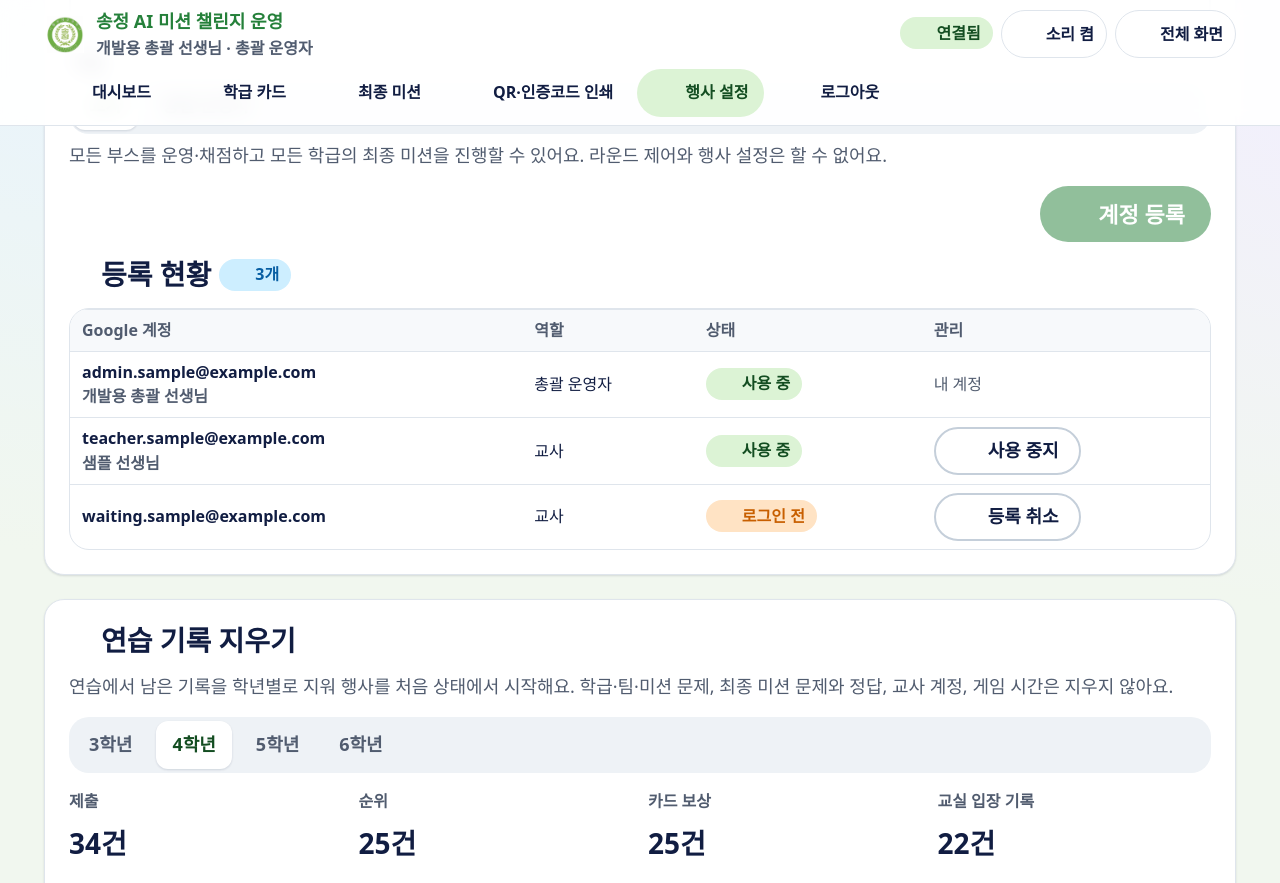
it: 교사 계정 등록 › 다른 교사 계정은 사용 중지했다가 다시 쓰게 할 수 있고, 내 계정은 바꿀 수 없다
(page scrolled)
Expected: the table is shown, [70,309,1210,549]
Expected: the text "내 계정" is shown, [934,373,982,395]
Click the button with aria-label "teacher.sample@example.com 사용 중지": (1007, 451) [934,427,1081,475]
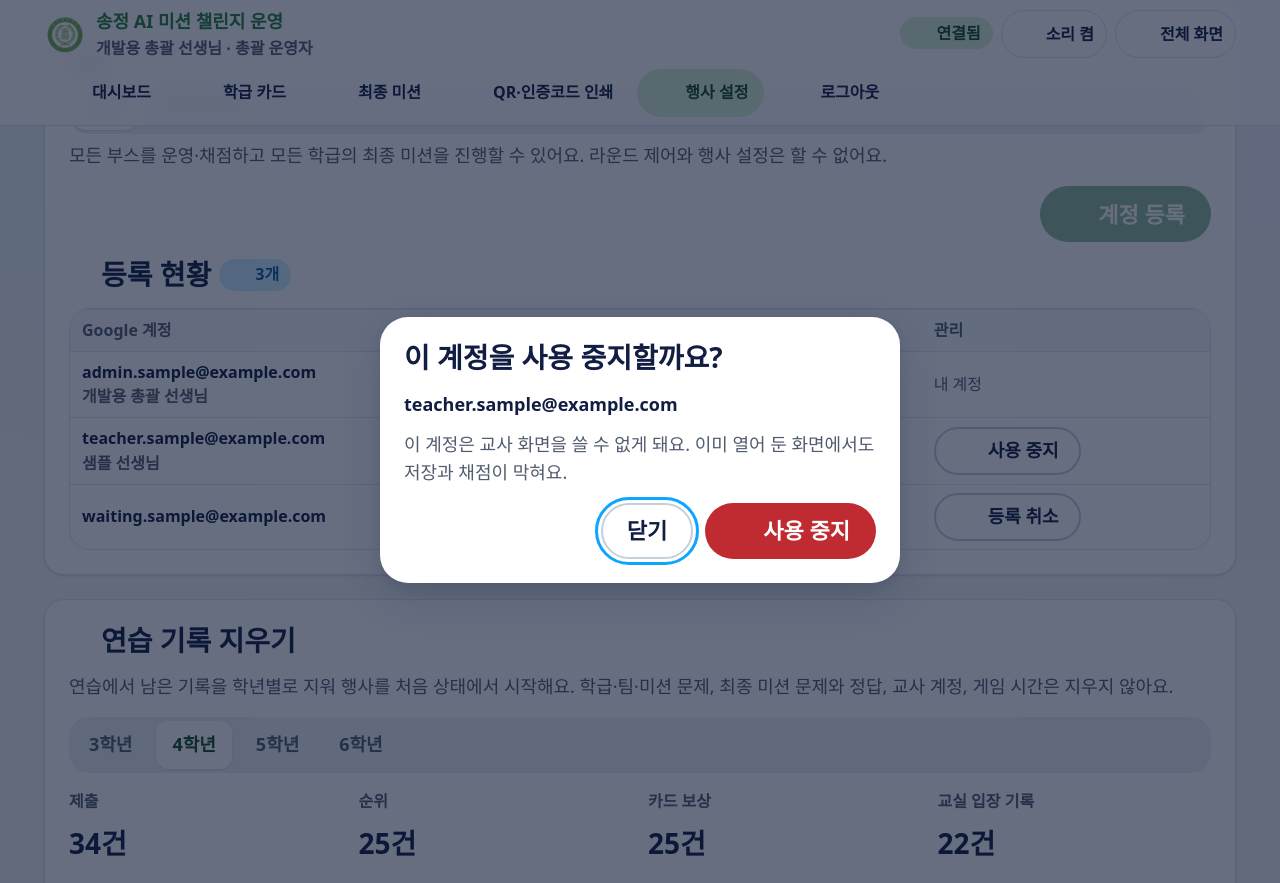
Click the button "사용 중지": (791, 531) [705,503,876,559]
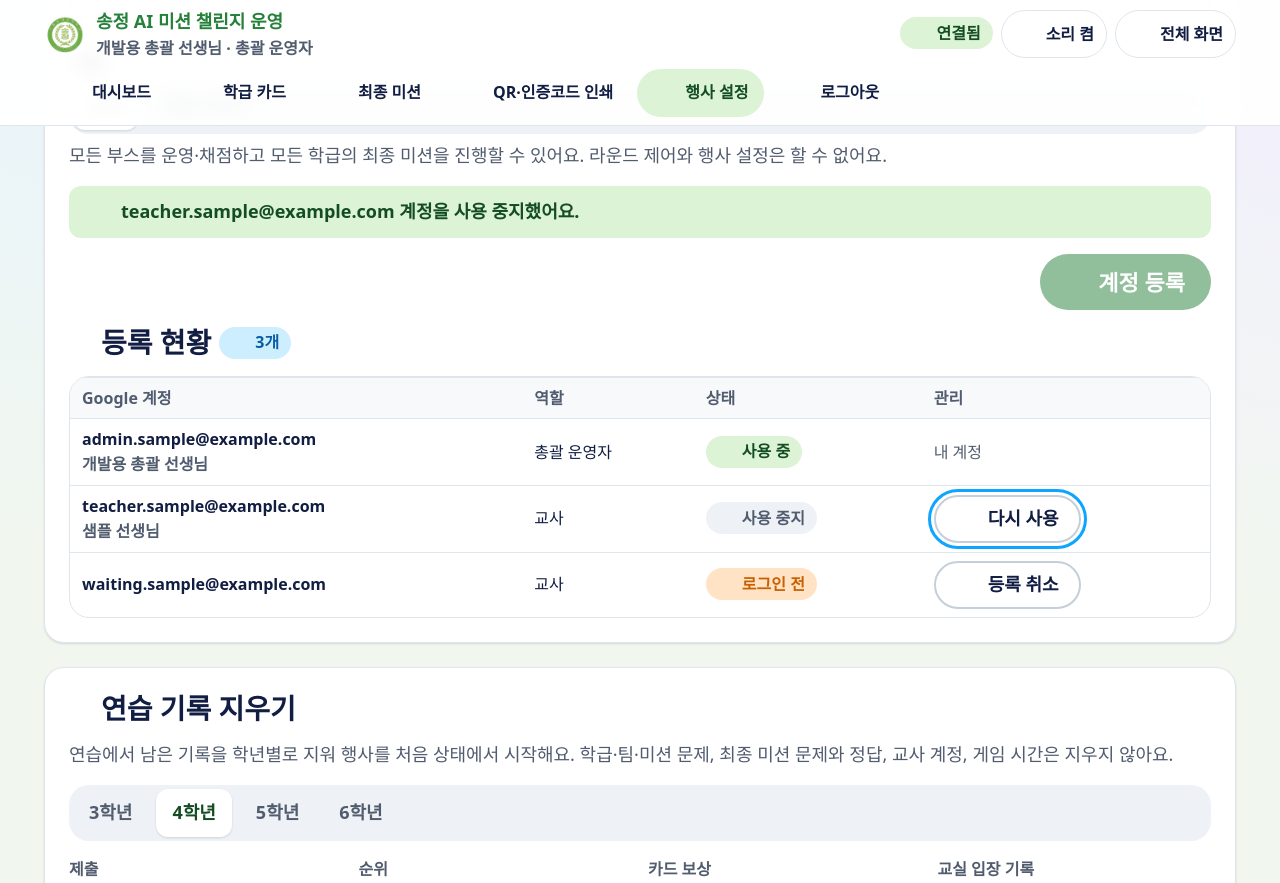
Result: the button "다시 사용" is shown
Click the button "다시 사용": (1007, 519) [934,495,1081,543]
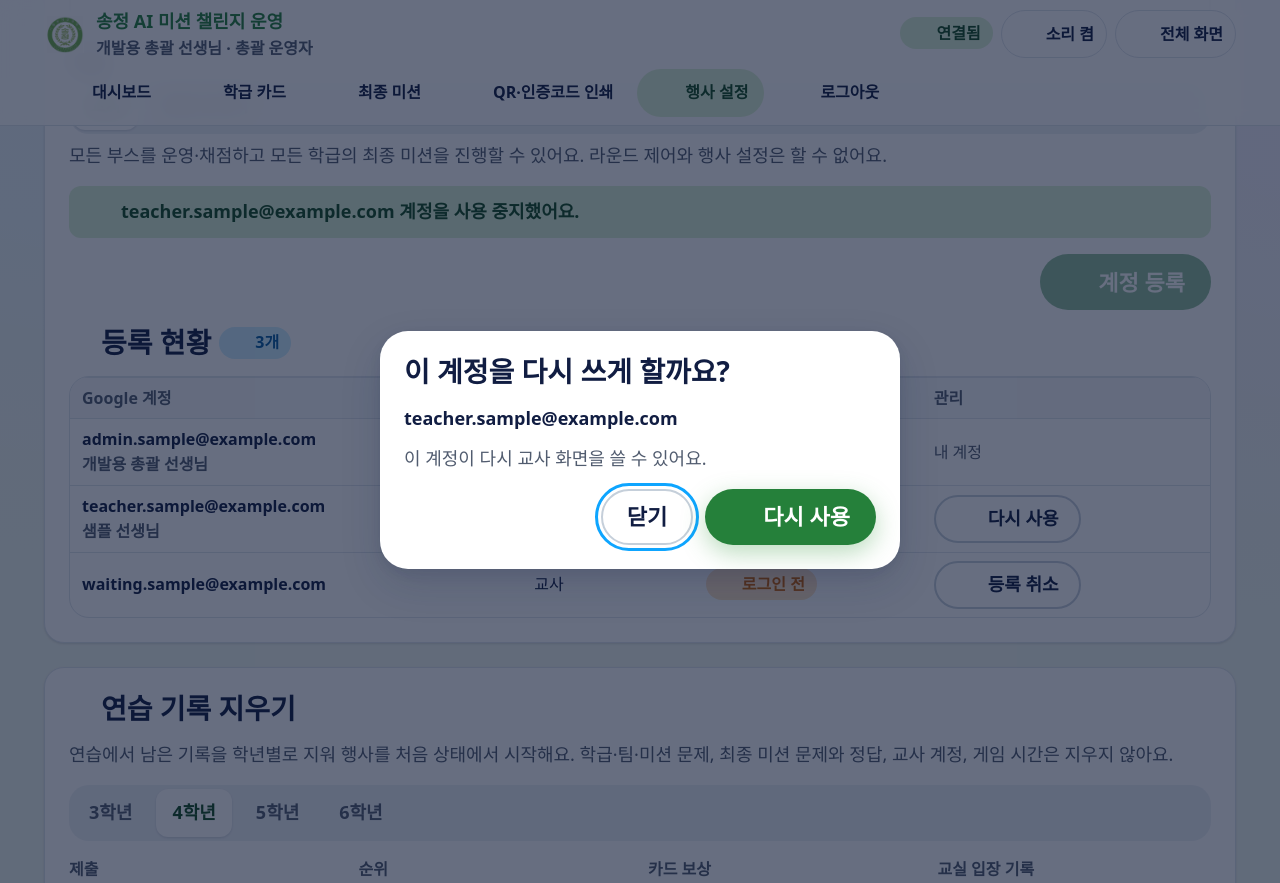
Click the button "다시 사용": (791, 517) [705,489,876,545]
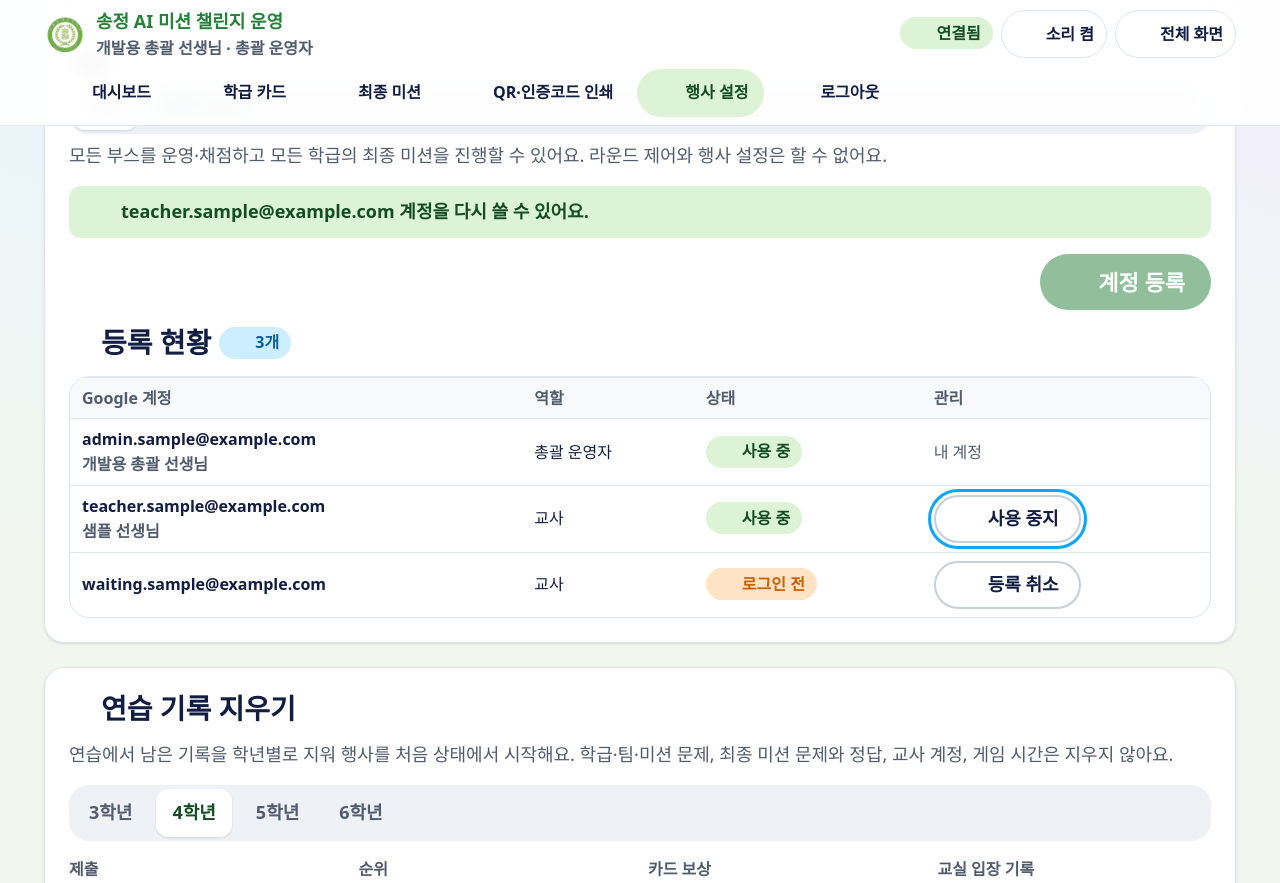
Result: the text "teacher.sample@example.com 계정을 다시 쓸 수 있어요." is shown at [121,199,589,223]
